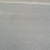zebra: (2, 17, 50, 42)
